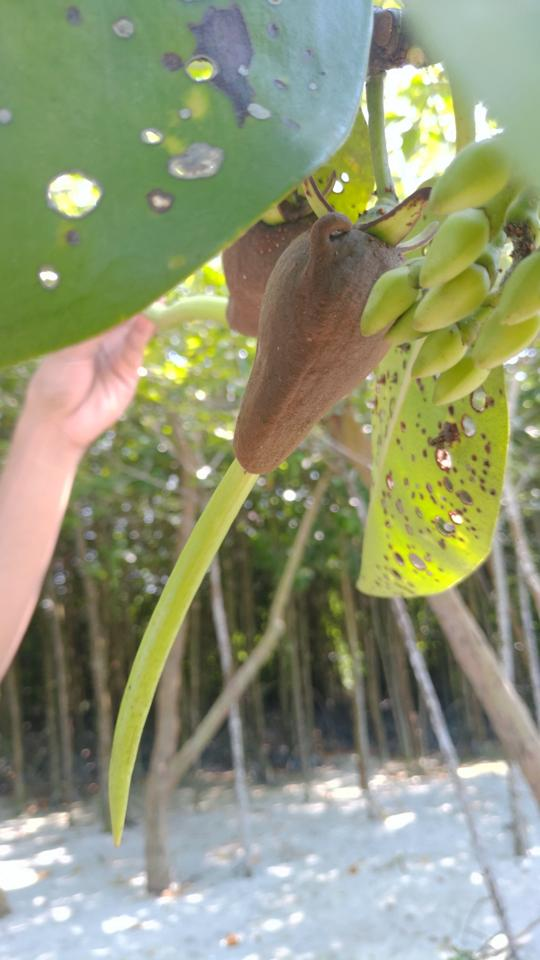mentah: (78, 158, 459, 856)
